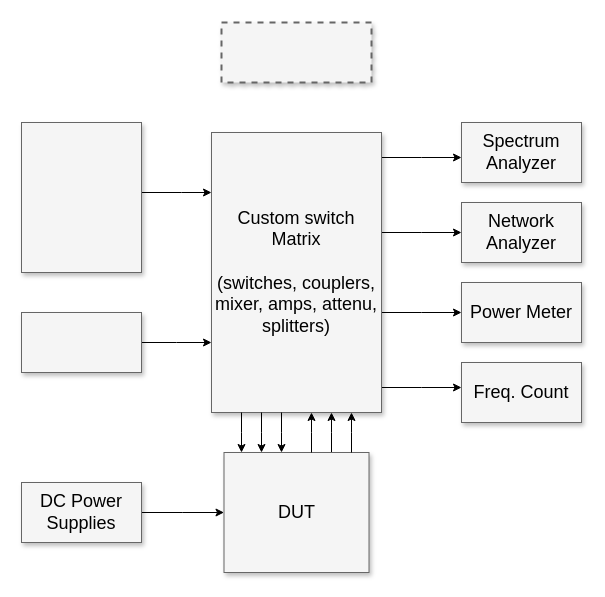
Some shapes in this 605 by 597 pixel diagram are drawn without their labels. Each missing label, with the centre of its shape:
ARB / Mod Source: the point at 82,344
Software Control: the point at 297,53
Vector Signal Generator: the point at 82,199
